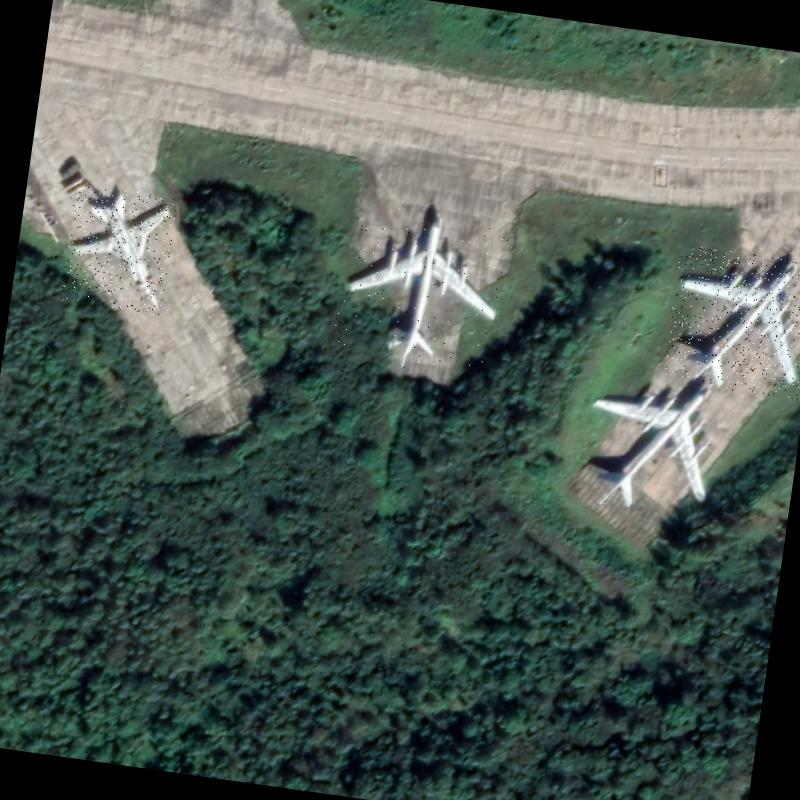A12: (60, 183, 178, 315)
A17: (329, 201, 511, 381), (573, 366, 725, 524), (661, 243, 800, 399)
